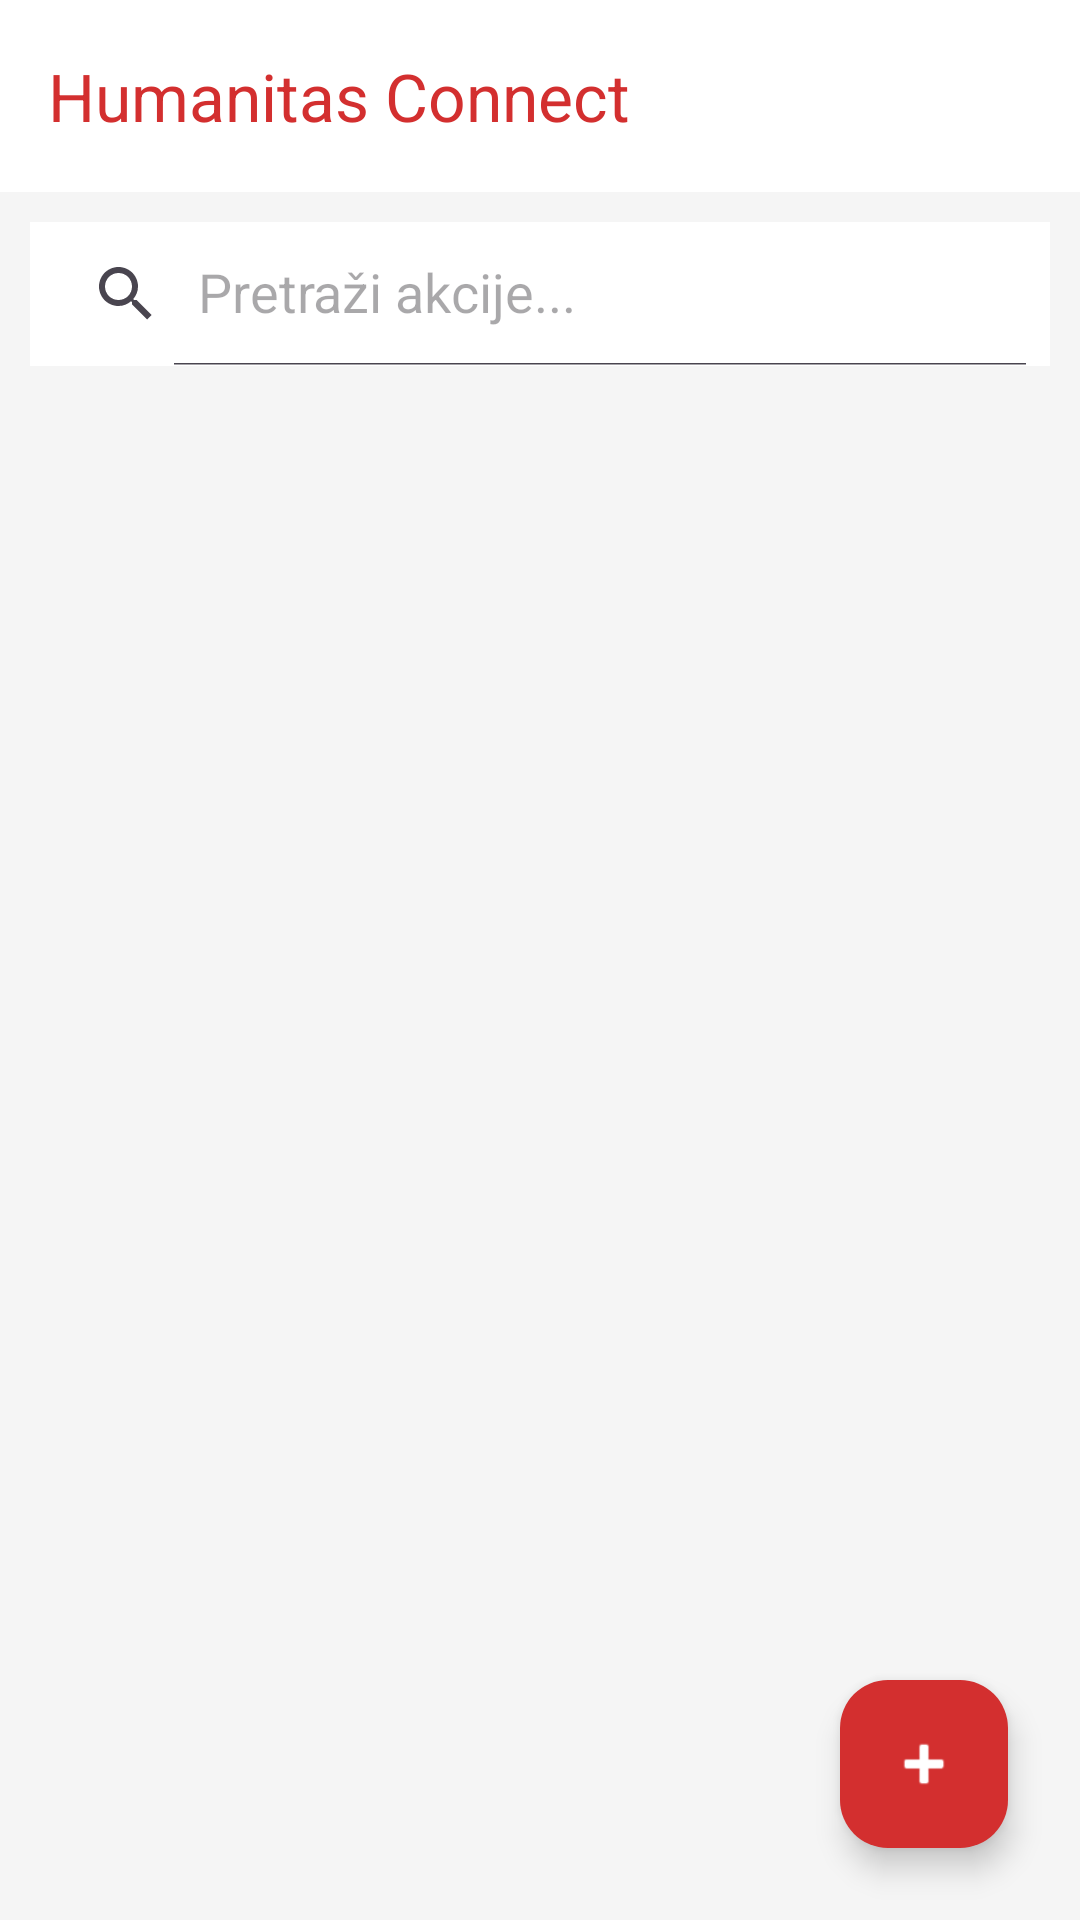

Screen size 1080*1920. Icon name, then its center in pixels as (x,y):
Dodaj novu akciju: (924,1764)
